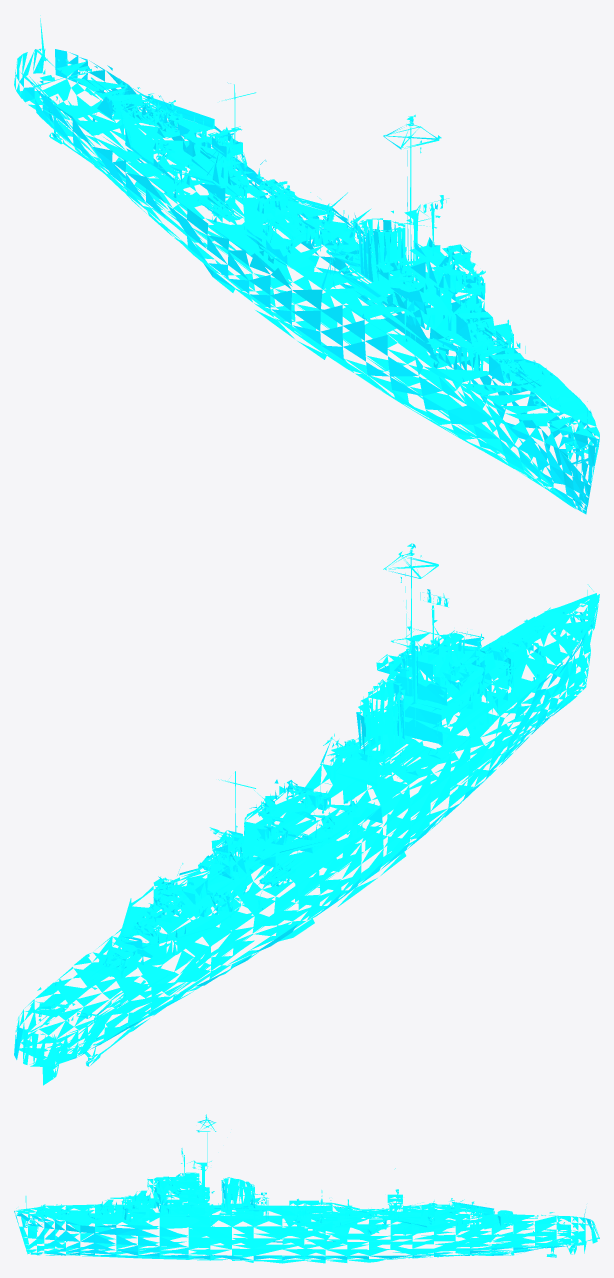
File: Tromp.glb
3 renders of one model, top to bottom at view 1: azimuth 30°, elevation 25°; view 2: azimuth 150°, elevation 25°; view 3: azimuth 270°, elevation 25°, orthographic. The views are drawn at different scales.
Bounding box in the file's own units: 0.9071 × 2.32 × 8.8.
